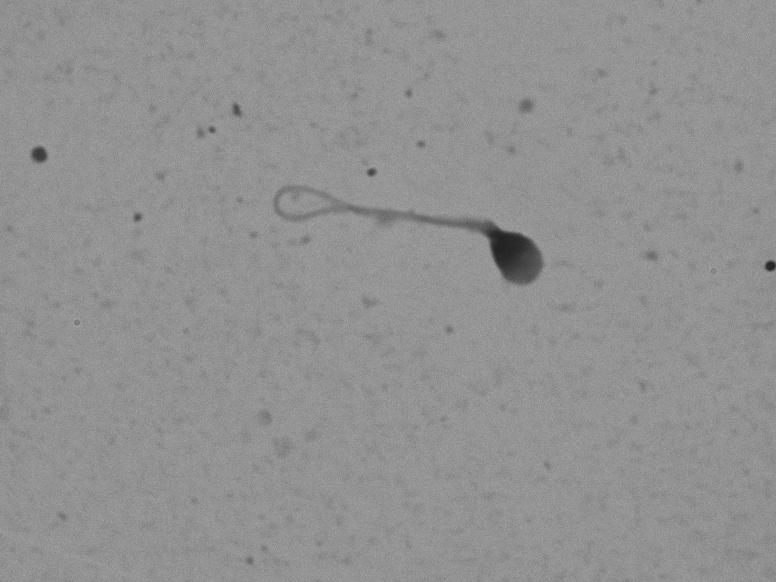Abnormal: (251, 149, 584, 310)
